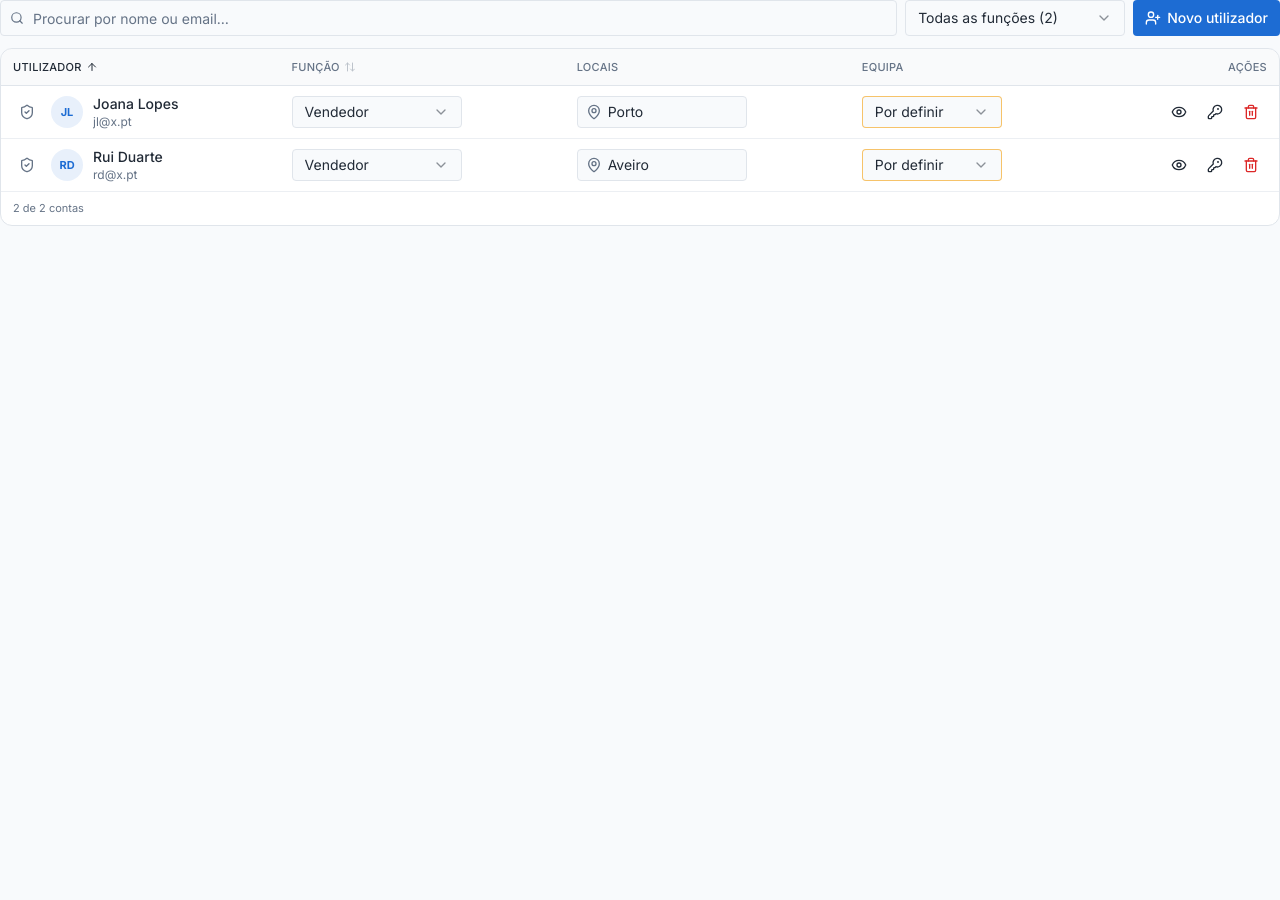
Contas: o que cada conta pode fazer › abre a lista da conta com o nível final e a origem
Expected: the text "Mostrar também sem acesso" is not shown
What coordinates should you click on to do the following:
click the button named "Ver os acessos de Joana Lopes"
I would click on:
 (27, 112)
Its box is [13, 98, 41, 126].
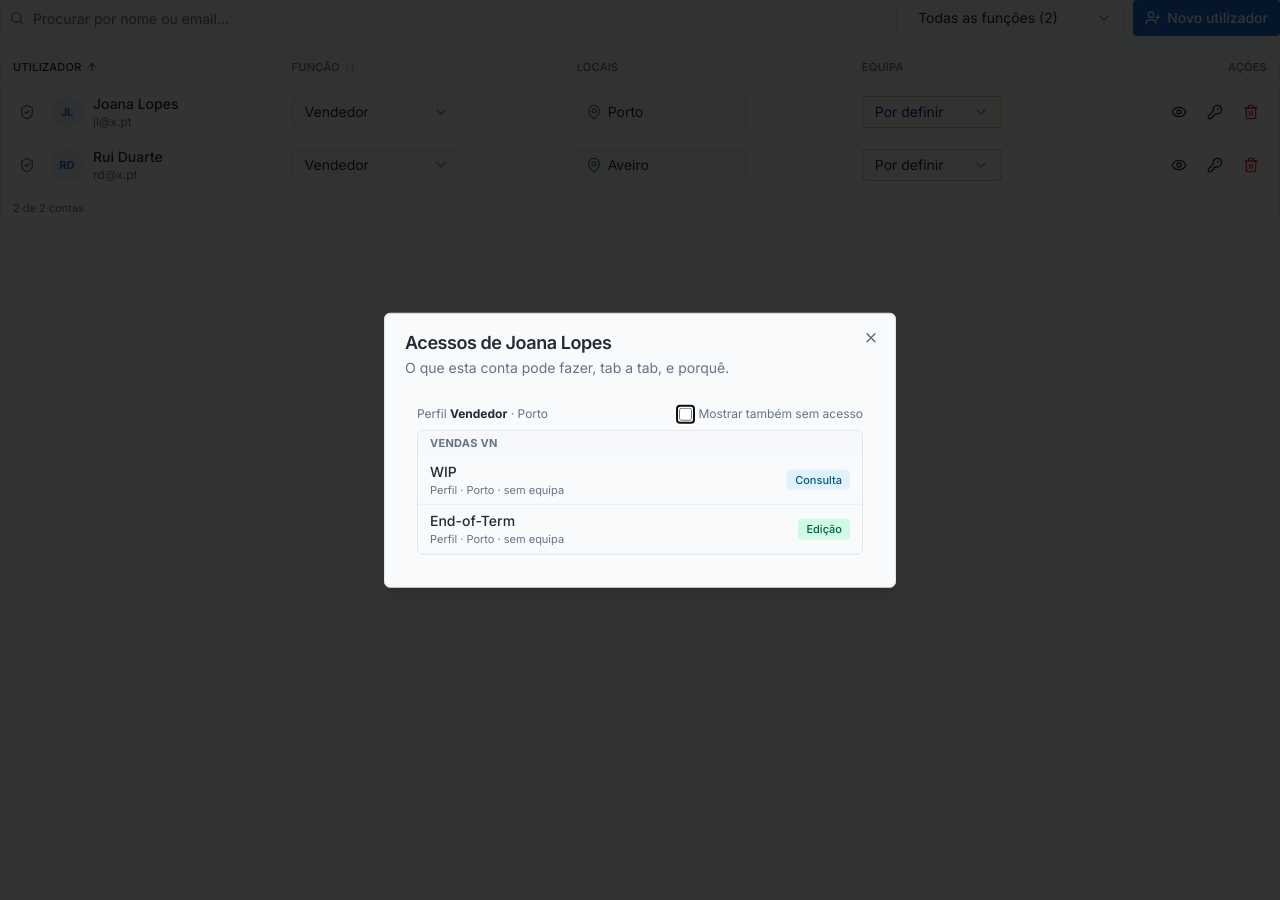
Expected: the text "Funil" is not shown
Expected: the text "Consulta" is shown, [787, 469, 850, 490]
Expected: the text "Perfil · Porto · sem equipa" below "WIP" is shown, [430, 482, 564, 496]
What coordinates should you click on to do the following:
click the checkbox labelled "Mostrar também sem acesso"
I would click on:
 (686, 414)
Its box is [679, 407, 692, 420].
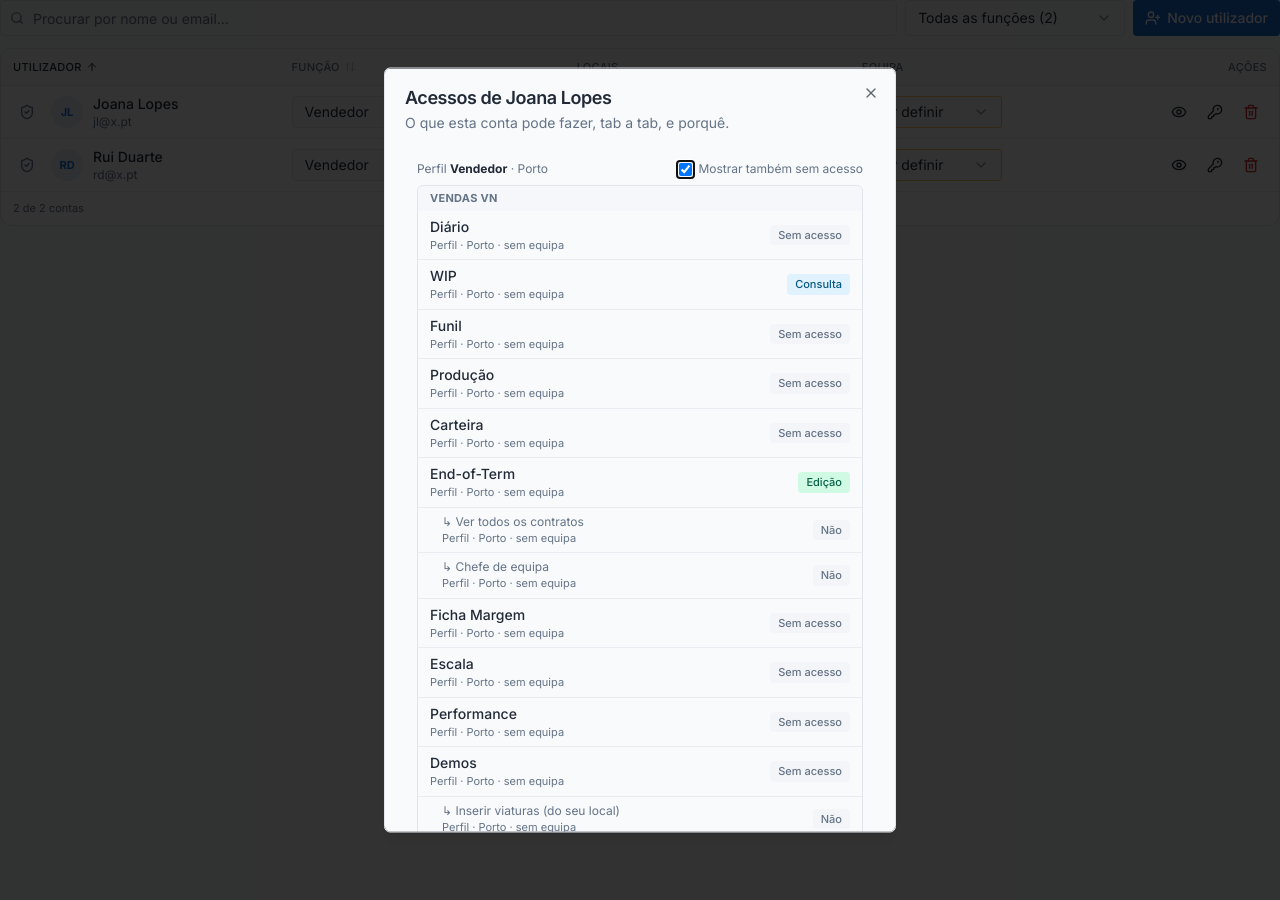
Expected: the text "Sem acesso" in the row of "Funil" is shown, [778, 326, 842, 340]
